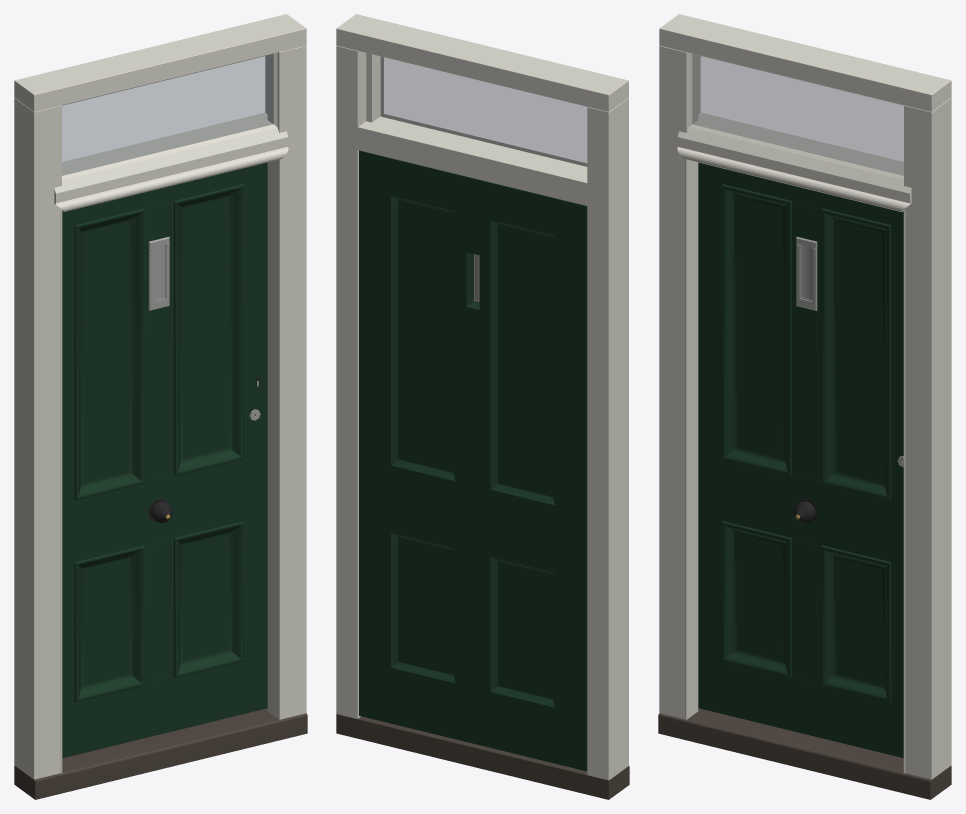
File: door_F1.glb
3 views of the same model, side by side, from view 1: azimuth 30°, elevation 25°; view 2: azimuth 150°, elevation 25°; view 3: azimuth 330°, elevation 25° (orthographic).
Parts seen in each view (by area): view 1: leaf_frame, frame_jamb_L, frame_jamb_R, glass_fanlight, panel_top_left, panel_top_right, frame_transom, frame_head, stone_threshold, moulding_bolection_top_left, moulding_bolection_top_right, panel_bottom_left (+8 smaller); view 2: leaf_frame, frame_jamb_L, frame_jamb_R, panel_top_right, panel_top_left, glass_fanlight, frame_head, frame_transom, panel_bottom_right, panel_bottom_left, stone_threshold, moulding_single_top_right (+4 smaller); view 3: leaf_frame, frame_jamb_R, frame_jamb_L, glass_fanlight, panel_top_right, panel_top_left, frame_transom, frame_head, stone_threshold, moulding_bolection_top_right, moulding_bolection_top_left, panel_bottom_right (+8 smaller).
Boxes of the visible parts, bbox=[...] form: leaf_frame: bbox=[62, 162, 267, 758]; frame_jamb_L: bbox=[14, 97, 61, 779]; frame_jamb_R: bbox=[265, 45, 306, 719]; glass_fanlight: bbox=[62, 54, 273, 175]; panel_top_left: bbox=[83, 221, 129, 482]; panel_top_right: bbox=[183, 197, 228, 458]; frame_transom: bbox=[54, 112, 288, 211]; frame_head: bbox=[14, 14, 306, 111]; stone_threshold: bbox=[14, 708, 307, 799]; moulding_bolection_top_left: bbox=[74, 208, 144, 499]; moulding_bolection_top_right: bbox=[174, 184, 243, 475]; panel_bottom_left: bbox=[83, 558, 129, 684]; leaf_frame: bbox=[359, 150, 587, 771]; frame_jamb_L: bbox=[587, 98, 628, 780]; frame_jamb_R: bbox=[336, 45, 380, 718]; panel_top_right: bbox=[398, 200, 453, 472]; panel_top_left: bbox=[498, 224, 552, 496]; glass_fanlight: bbox=[381, 57, 586, 166]; frame_head: bbox=[336, 14, 628, 111]; frame_transom: bbox=[357, 116, 587, 205]; panel_bottom_right: bbox=[398, 537, 453, 674]; panel_bottom_left: bbox=[498, 561, 552, 699]; stone_threshold: bbox=[336, 714, 629, 799]; moulding_single_top_right: bbox=[389, 194, 456, 482]; leaf_frame: bbox=[698, 162, 903, 758]; frame_jamb_R: bbox=[904, 97, 951, 779]; frame_jamb_L: bbox=[659, 45, 700, 719]; glass_fanlight: bbox=[692, 54, 903, 175]; panel_top_right: bbox=[836, 221, 882, 482]; panel_top_left: bbox=[737, 197, 782, 458]; frame_transom: bbox=[677, 112, 911, 211]; frame_head: bbox=[659, 14, 951, 111]; stone_threshold: bbox=[658, 708, 951, 799]; moulding_bolection_top_right: bbox=[821, 208, 891, 499]; moulding_bolection_top_left: bbox=[722, 184, 791, 475]; panel_bottom_right: bbox=[836, 558, 882, 684].
Size of the model in its own units: 1 by 2.47 by 0.149.
